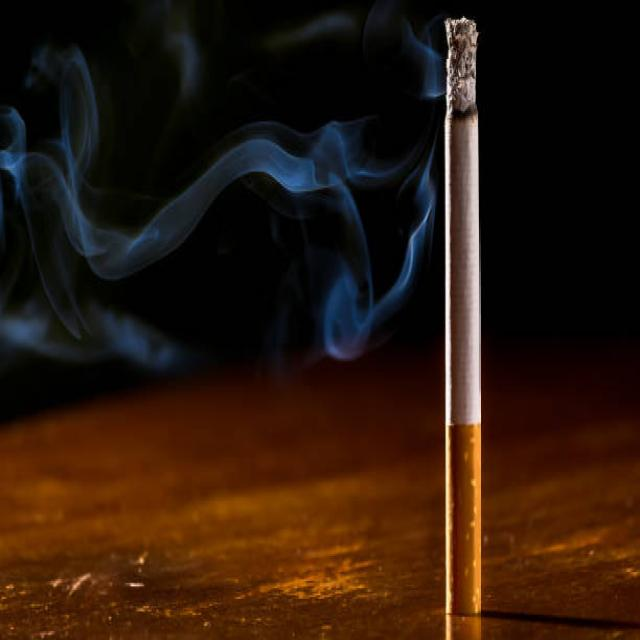Cigarette: (437, 21, 506, 624)
